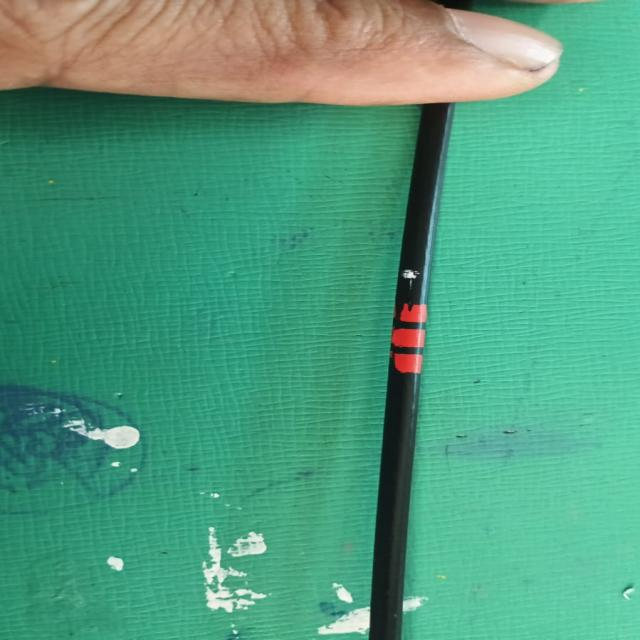red: (394, 303, 424, 376)
